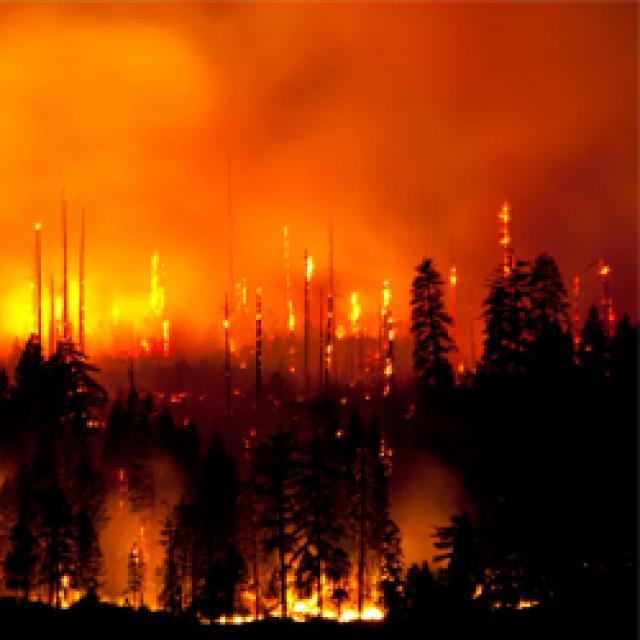Fire: (206, 570, 388, 632), (0, 266, 97, 345), (567, 260, 616, 368), (278, 222, 300, 381), (148, 249, 173, 352), (471, 578, 536, 616), (381, 279, 398, 394), (225, 274, 248, 356), (97, 594, 160, 616), (48, 572, 80, 610), (324, 304, 342, 368), (342, 286, 362, 336), (500, 202, 510, 286), (148, 390, 184, 403), (305, 249, 317, 284), (448, 262, 459, 286), (88, 418, 104, 428)
Smoke: (0, 0, 640, 267), (106, 456, 174, 592), (398, 471, 456, 583), (168, 262, 219, 372), (92, 264, 142, 366)
